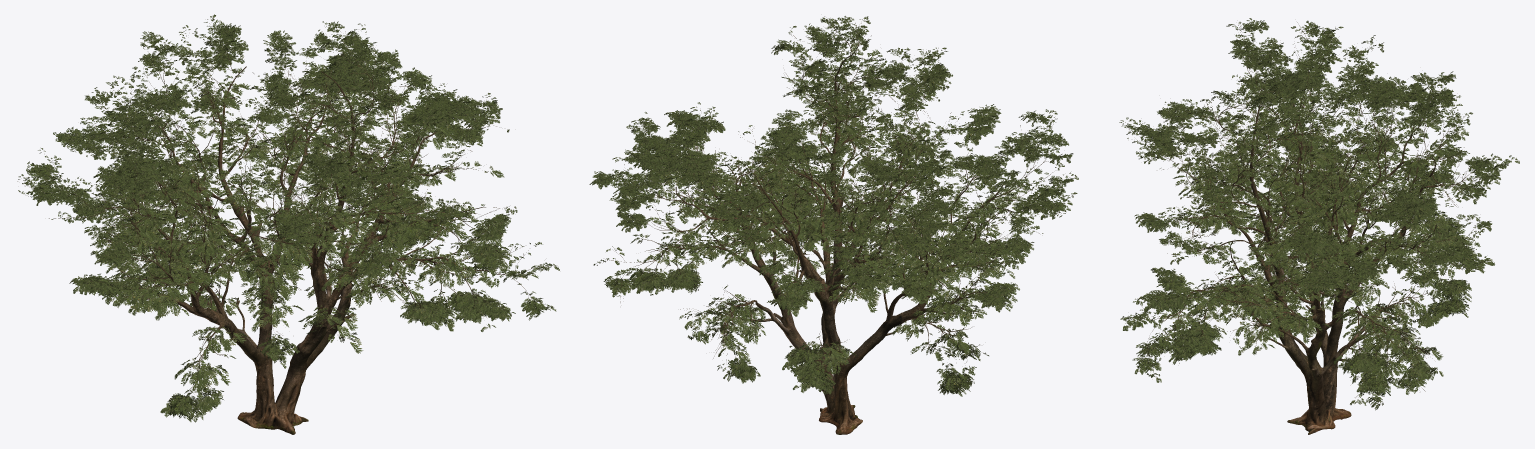
The model's file is Gratitude-Jacaranda-Candidate.glb.
3 views of the same model, side by side, from view 1: azimuth 30°, elevation 25°; view 2: azimuth 150°, elevation 25°; view 3: azimuth 270°, elevation 25° (orthographic). The views are drawn at different scales.
Visible parts, largest first — view 1: jacaranda_tree_LOD0; view 2: jacaranda_tree_LOD0; view 3: jacaranda_tree_LOD0.
Boxes of the visible parts, <box> form: jacaranda_tree_LOD0: <box>17,14,559,434</box>; jacaranda_tree_LOD0: <box>589,16,1078,434</box>; jacaranda_tree_LOD0: <box>1119,18,1519,434</box>.
Bounding box in the file's own units: 24.34 × 19.44 × 19.12.
Materials: 3 (3 with a texture image).
